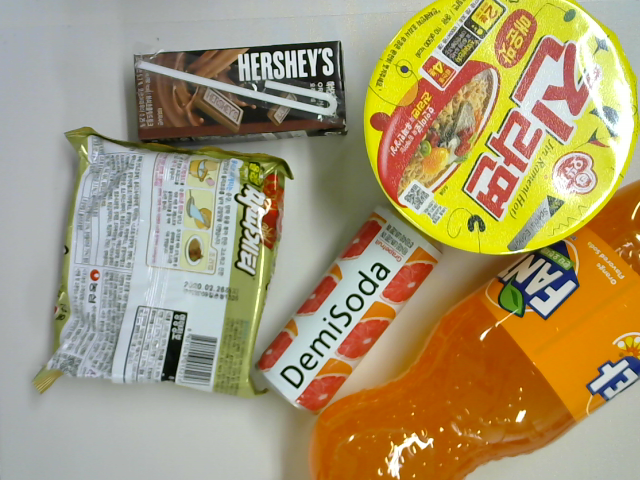Demisoda_Grapefruit_Can_250ml: (255, 200, 449, 414)
Hush_Choco_Drink: (128, 41, 353, 154)
Hwanta_Orange_1.5L: (306, 173, 640, 480)
Jinlamyeon_Hot_Taste_Large_Cup: (360, 1, 640, 260)
Olive_Chapaghetti: (32, 128, 292, 402)
